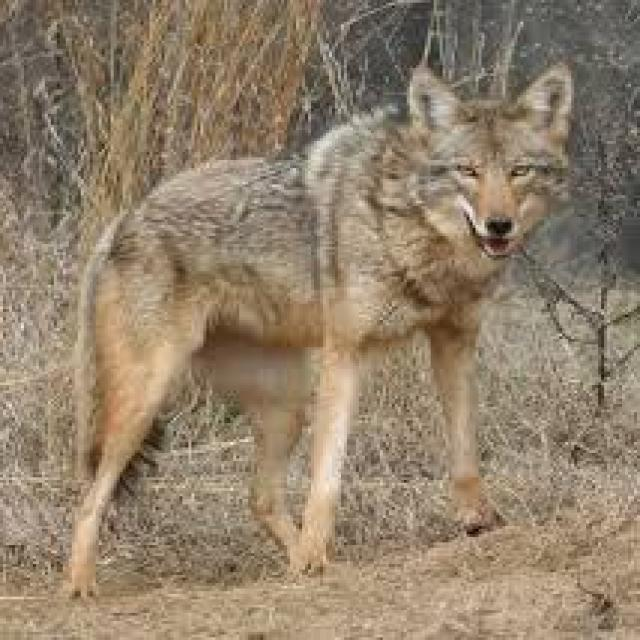Wolf: (38, 24, 620, 605)
